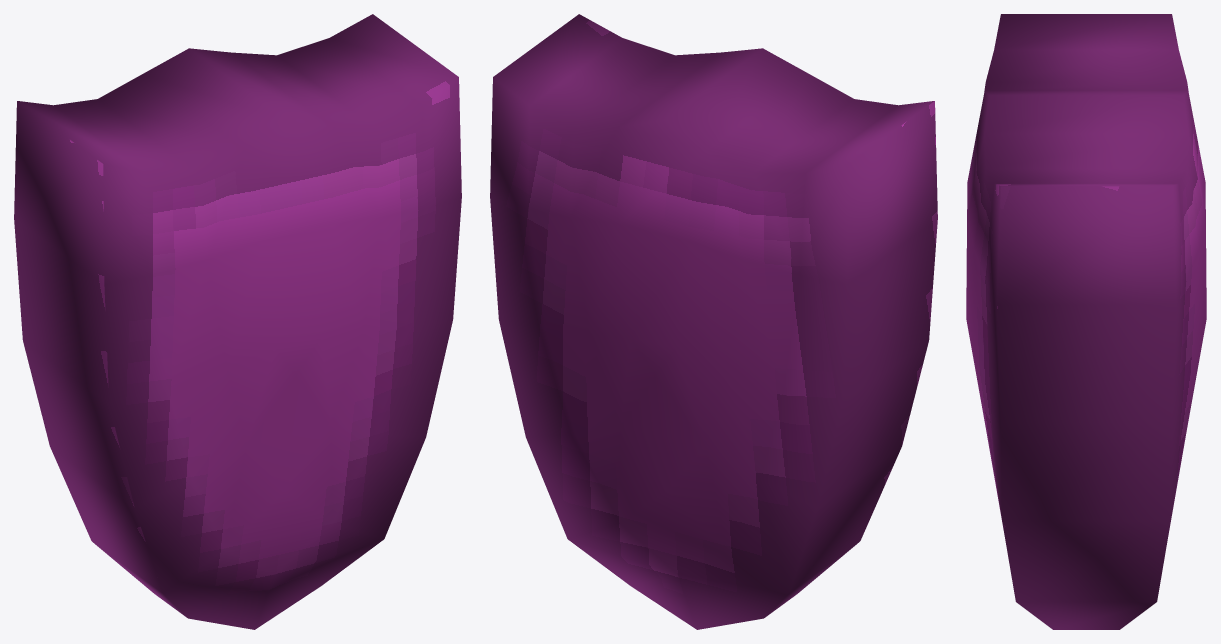
The model's file is Shild.fbx.
3 renders of one model, left to right at view 1: azimuth 30°, elevation 25°; view 2: azimuth 150°, elevation 25°; view 3: azimuth 270°, elevation 25°, orthographic.
Parts seen in each view (by area): view 1: Shild; view 2: Shild; view 3: Shild.
Part boxes in pixels (bbox=[...]): Shild: bbox=[14, 14, 461, 629]; Shild: bbox=[490, 14, 937, 629]; Shild: bbox=[966, 14, 1206, 629].
Bounding box in the file's own units: 49.21 × 70.16 × 28.83.
